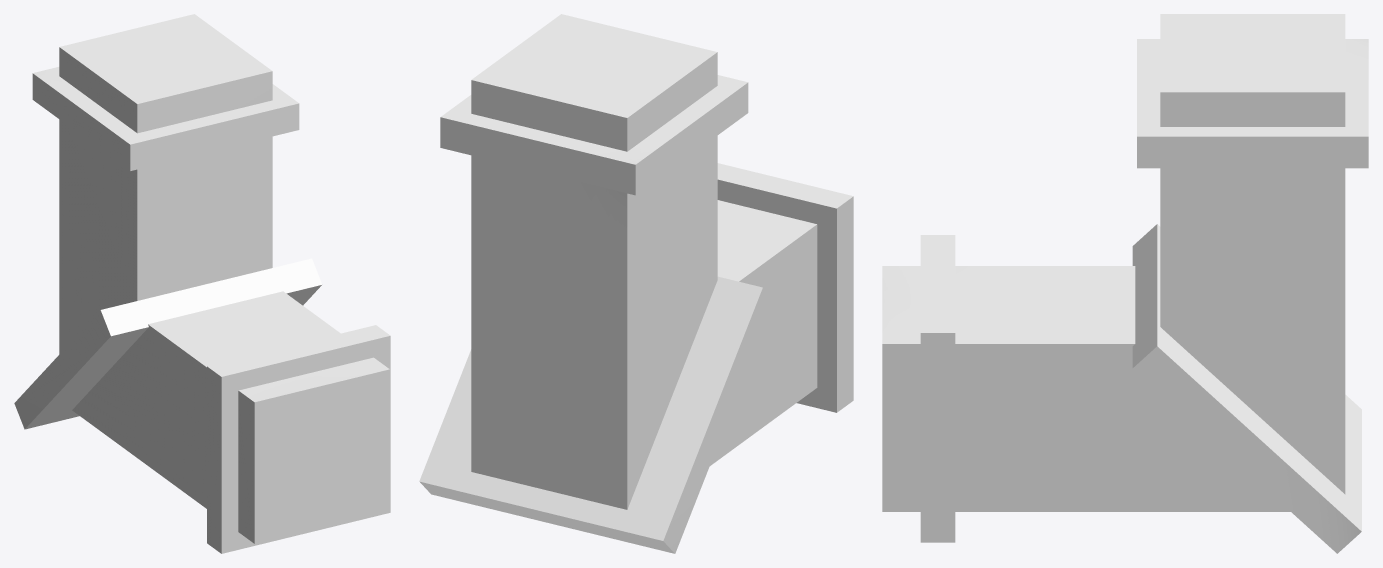
File: WarpRootConnector.obj
3 views of the same model, side by side, from view 1: azimuth 30°, elevation 25°; view 2: azimuth 150°, elevation 25°; view 3: azimuth 270°, elevation 25° (orthographic). The views are drawn at different scales.
Visible parts, largest first — view 1: Cube; view 2: Cube; view 3: Cube.
Part boxes in pixels (x1,y1,x2,y2): Cube: [14, 14, 390, 553]; Cube: [419, 14, 853, 553]; Cube: [882, 14, 1368, 553].
Size of the model in its own units: 1.56 by 2.62 by 2.62.
Materials: 1 (1 with a texture image).
